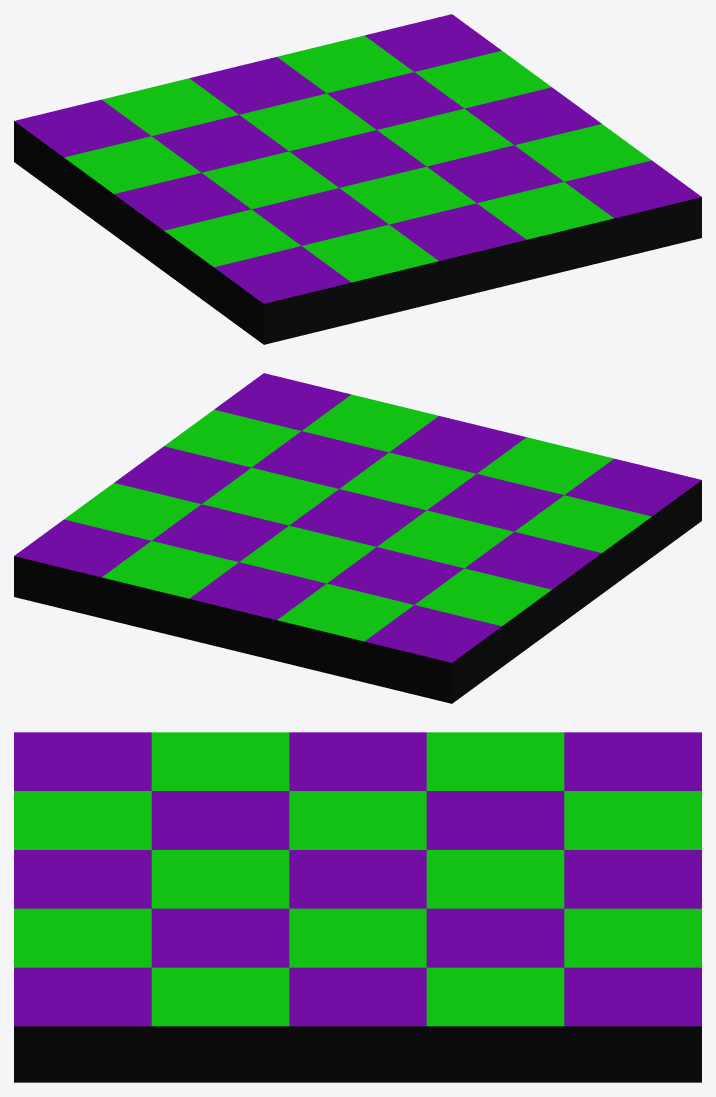
The model's file is New_Dance Floor.fbx.
The picture shows the model from 3 angles, top to bottom: view 1: azimuth 30°, elevation 25°; view 2: azimuth 150°, elevation 25°; view 3: azimuth 270°, elevation 25°; orthographic projection. The views are drawn at different scales.
Visible parts, largest first — view 1: Box001; view 2: Box001; view 3: Box001.
Boxes of the visible parts, x1,y1,x2,y2 form: Box001: (14,14,701,344); Box001: (14,373,701,703); Box001: (14,732,701,1082).
Bounding box in the file's own units: 140 × 12.49 × 138.
